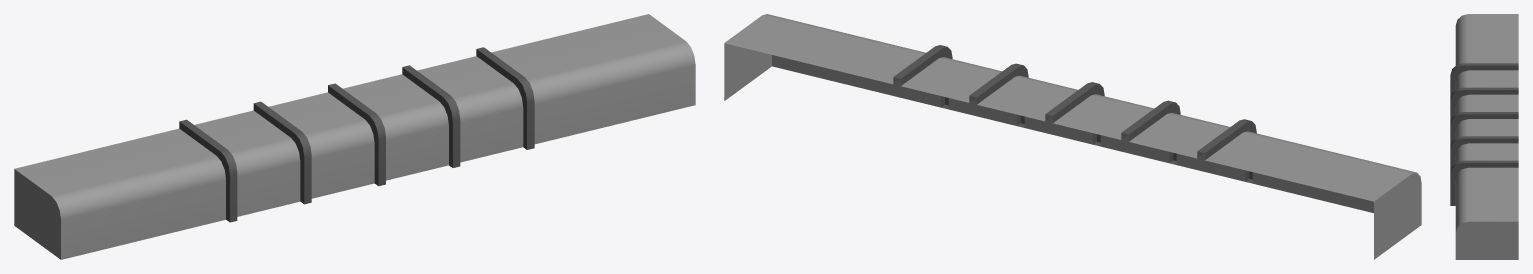
Rendered from Wall_Front.fbx.
3 renders of one model, left to right at view 1: azimuth 30°, elevation 25°; view 2: azimuth 150°, elevation 25°; view 3: azimuth 270°, elevation 25°, orthographic. The views are drawn at different scales.
Parts seen in each view (by area): view 1: pCube50; view 2: pCube50; view 3: pCube50.
Boxes of the visible parts, x1=… form: pCube50: x1=14, y1=14, x2=695, y2=259; pCube50: x1=724, y1=14, x2=1421, y2=259; pCube50: x1=1450, y1=14, x2=1518, y2=259.
Size of the model in its own units: 35 by 3.38 by 4.84.
